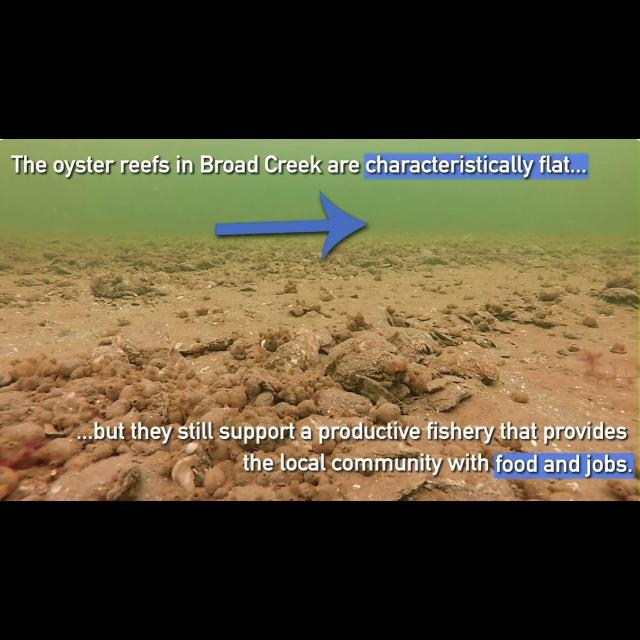Oyster-Closed: (425, 336, 509, 378), (79, 462, 159, 502), (336, 473, 436, 501), (355, 376, 419, 414), (314, 387, 376, 425), (260, 342, 314, 381), (381, 324, 435, 361), (118, 326, 170, 364), (188, 347, 234, 383), (290, 320, 324, 368), (171, 452, 209, 492), (32, 434, 86, 461), (425, 383, 471, 412), (84, 342, 128, 370), (4, 418, 44, 448), (90, 273, 126, 301), (598, 286, 640, 310), (197, 332, 239, 352), (1, 465, 23, 501), (534, 284, 568, 306), (522, 474, 548, 502), (170, 336, 200, 360), (513, 242, 547, 262), (0, 402, 32, 423), (605, 268, 635, 290), (510, 386, 534, 412), (42, 420, 76, 438), (540, 488, 582, 502), (468, 333, 500, 351), (416, 251, 452, 267), (509, 310, 537, 330), (52, 262, 86, 278), (41, 246, 68, 264), (126, 268, 150, 286), (312, 249, 338, 265), (383, 250, 405, 268), (527, 302, 549, 320), (456, 310, 478, 328), (333, 265, 361, 279), (549, 477, 577, 491), (488, 318, 510, 334), (195, 258, 217, 274), (484, 301, 508, 315), (581, 315, 601, 331), (476, 308, 498, 322), (194, 282, 218, 294), (207, 271, 227, 285), (610, 343, 630, 357), (0, 369, 14, 388), (223, 277, 247, 287), (356, 258, 380, 268), (471, 316, 489, 328), (179, 262, 195, 274), (144, 238, 160, 250), (162, 262, 180, 272), (126, 284, 146, 292), (48, 238, 64, 248), (206, 278, 216, 290)
Oyster-Open: (324, 336, 394, 382), (140, 285, 170, 297), (124, 290, 138, 300)
